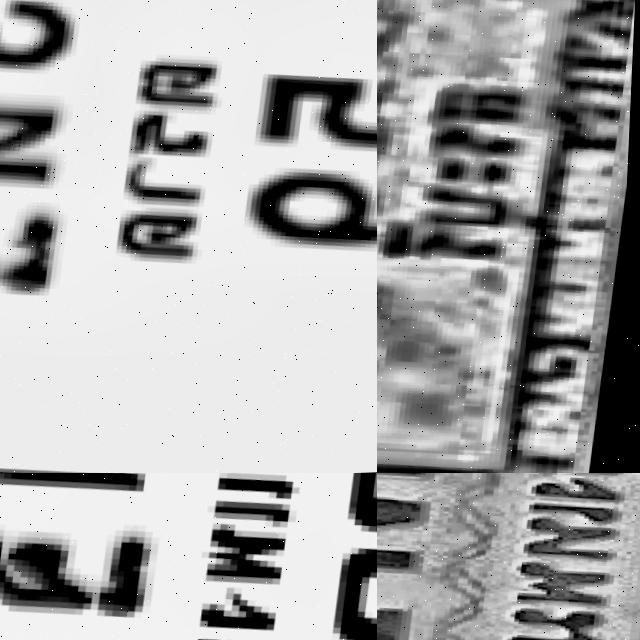license-plate: (0, 0, 377, 473), (377, 0, 640, 473), (0, 473, 377, 640), (377, 473, 640, 640)
